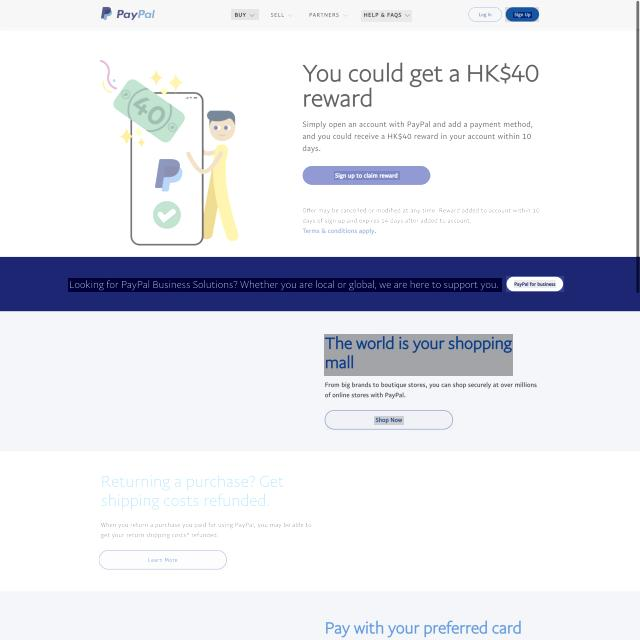CheckBox: (302, 165, 430, 186), (100, 550, 230, 570), (325, 410, 454, 430), (506, 276, 564, 292), (299, 225, 376, 236), (468, 7, 502, 22), (505, 7, 539, 22)
Input field: (299, 117, 536, 162), (68, 278, 502, 292), (300, 203, 544, 226), (97, 520, 314, 540)
alert: (361, 10, 412, 22), (308, 9, 350, 21), (231, 9, 259, 20), (267, 9, 294, 20)
bag: (0, 0, 636, 28)
breadcrumbs: (324, 334, 513, 376), (100, 476, 286, 514)
card: (0, 29, 636, 257)
content: (96, 51, 246, 251)
data feed: (334, 171, 399, 180), (514, 280, 556, 288), (148, 556, 182, 564), (374, 416, 404, 425), (513, 12, 532, 18), (478, 12, 493, 18)
date picker: (96, 4, 159, 24)
decoration: (227, 5, 415, 25)
image: (298, 58, 538, 108)
